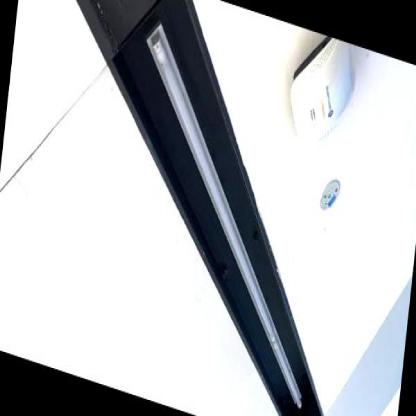light_off: (110, 7, 343, 415)
